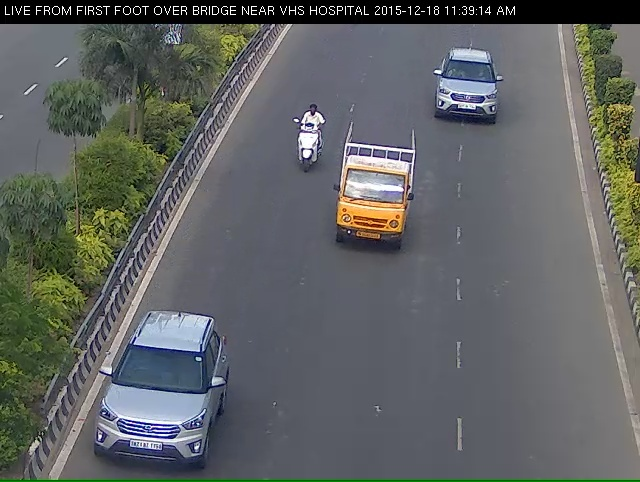Auto: (330, 139, 419, 288)
Car: (84, 343, 208, 479), (427, 60, 505, 141)
Person: (277, 106, 319, 190)
